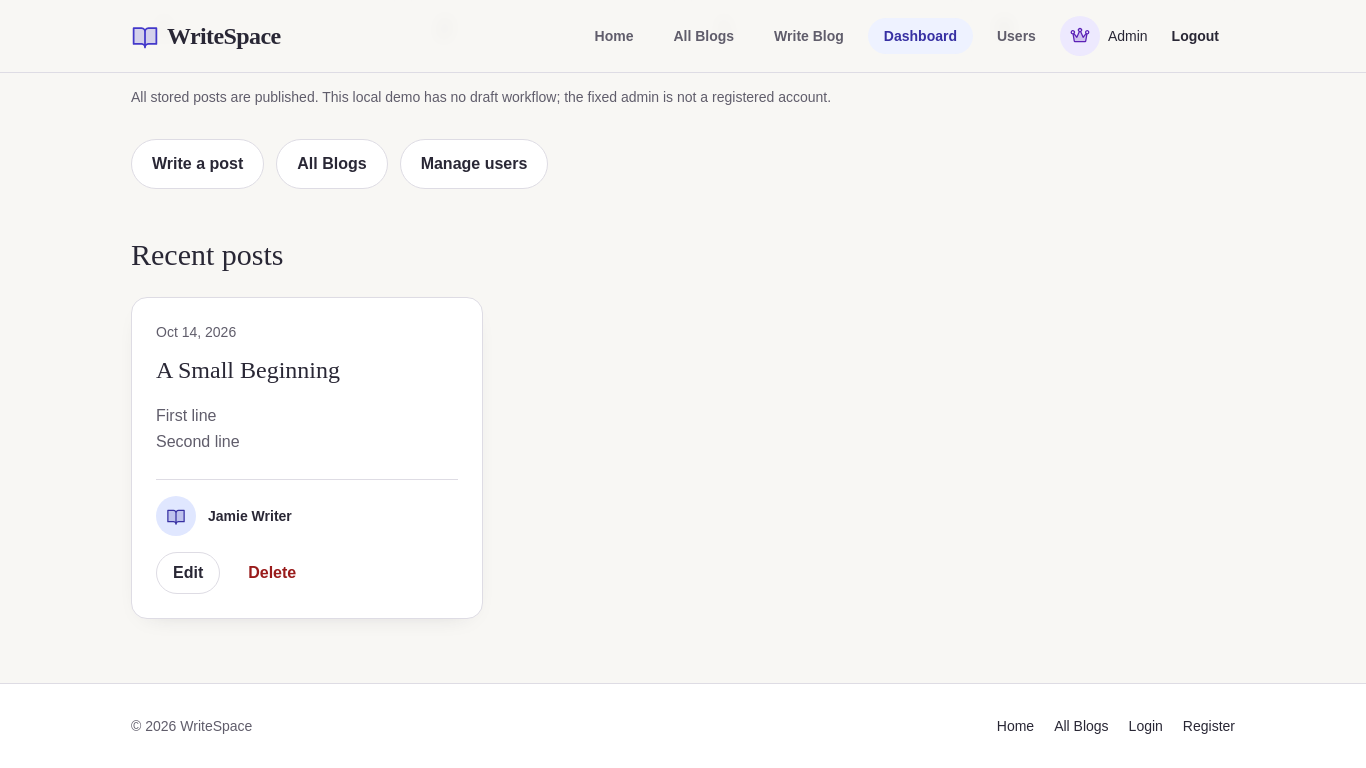
Test case: dashboard deletion and admin boundaries via App › keeps a transient failed-read warning and blocks controls even when the follow-up reads succeed
(page scrolled)
Click the button "Delete". click: point(272, 573)
box: [232,552,312,594]
(page scrolled)
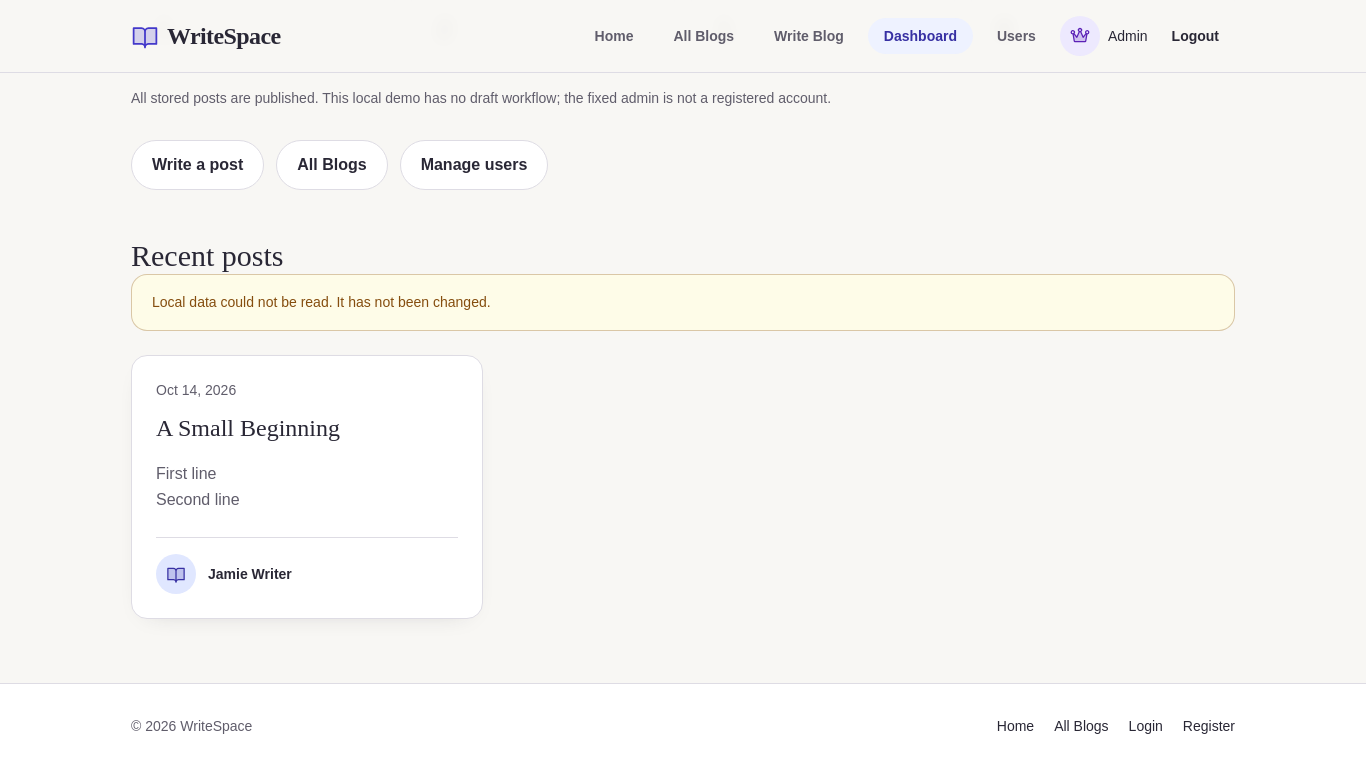
Expected: the element that starts with "Oct 14, 2026" is shown, [131,354,483,618]
Now the text "Local data could not be read. It has not been changed." is shown, box [131,274,1235,331]
Now the button "Delete" is gone
